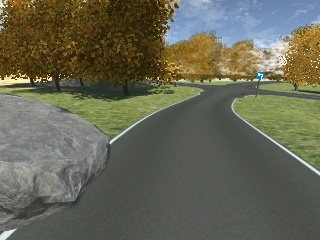Stone: (1, 93, 110, 233)
TLeft: (254, 70, 266, 81)
